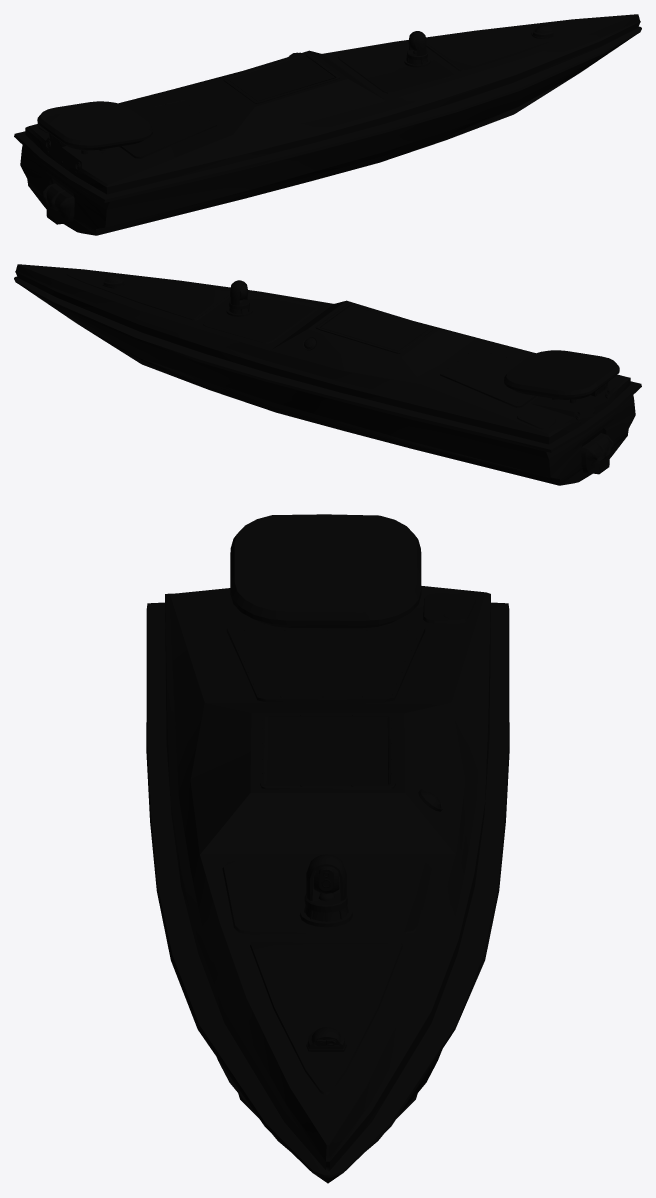
The model's file is boat.glb.
3 renders of one model, top to bottom at view 1: azimuth 30°, elevation 25°; view 2: azimuth 150°, elevation 25°; view 3: azimuth 270°, elevation 25°, orthographic. The views are drawn at different scales.
Visible parts, largest first — view 1: magura_v5; view 2: magura_v5; view 3: magura_v5.
Part boxes in pixels (box(x1,y1,x2,y2)): magura_v5: box(14, 14, 641, 235); magura_v5: box(14, 264, 641, 485); magura_v5: box(146, 514, 509, 1183).
Size of the model in its own units: 5.65 by 0.994 by 1.5.
Materials: 1 (1 with a texture image).
